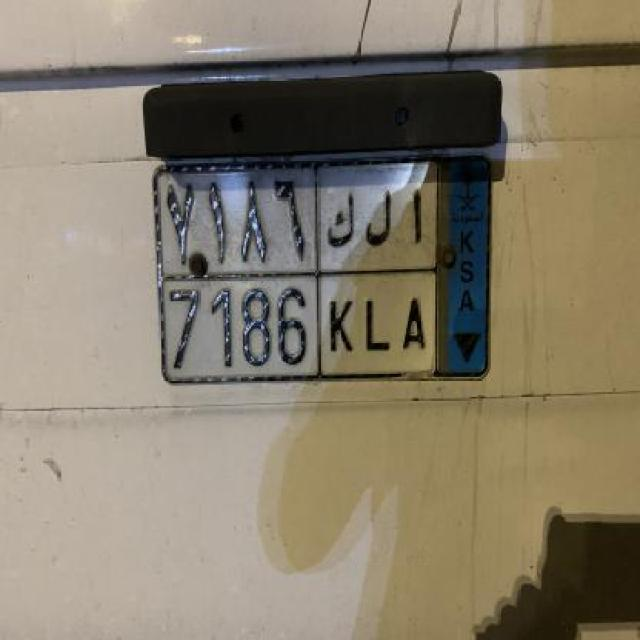license_plate: (151, 148, 497, 388)
